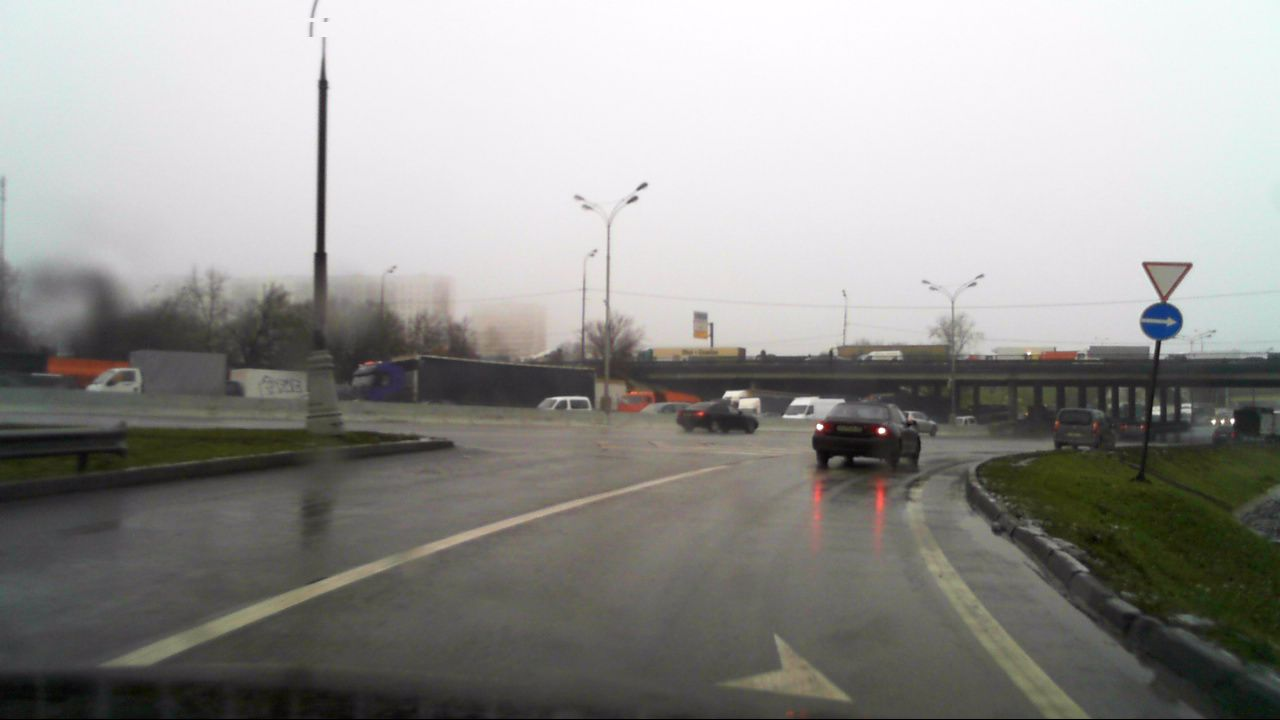Turn Right: (1140, 303, 1183, 341)
